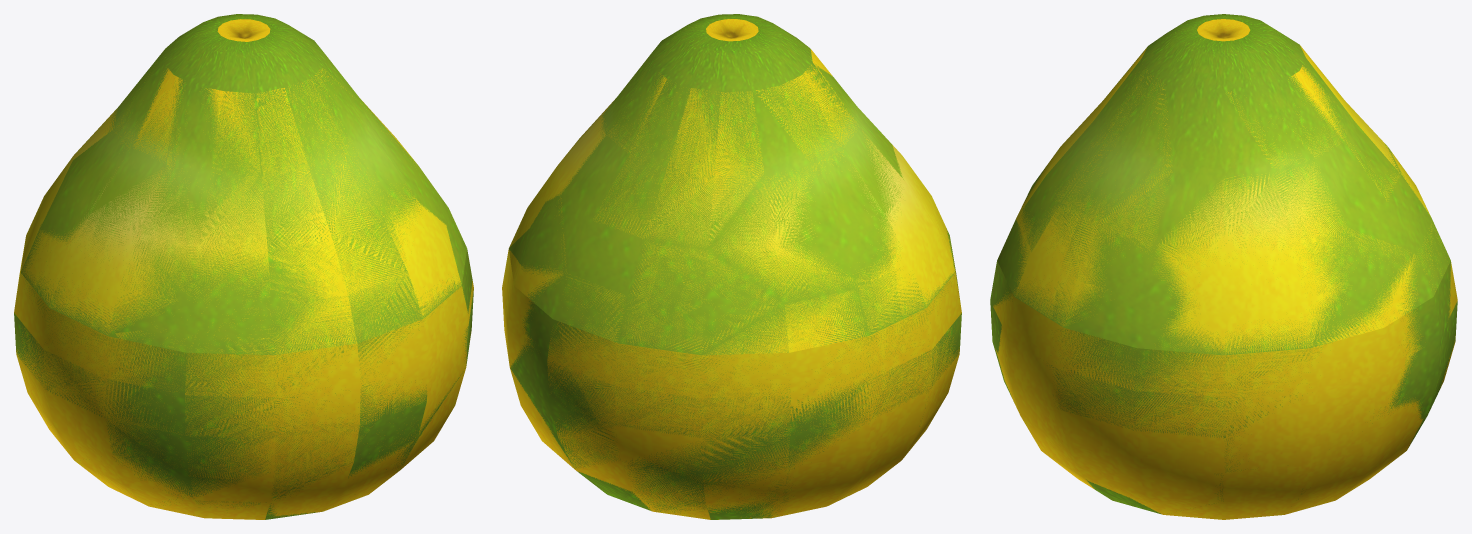
File: Pomelo_Yellow_Green_Sliced.fbx
The picture shows the model from 3 angles, left to right: view 1: azimuth 30°, elevation 25°; view 2: azimuth 150°, elevation 25°; view 3: azimuth 270°, elevation 25°; orthographic projection.
Parts seen in each view (by area): view 1: Pomelo_Green_Top, Pomelo_Yellow_Bottom, Pomelo_Yellow_Top, Pomelo_Green_Bottom; view 2: Pomelo_Green_Top, Pomelo_Yellow_Bottom, Pomelo_Yellow_Top, Pomelo_Green_Bottom; view 3: Pomelo_Green_Top, Pomelo_Yellow_Bottom, Pomelo_Yellow_Top, Pomelo_Green_Bottom.
Boxes of the visible parts, left/top/right/bottom form: Pomelo_Green_Top: left=21, top=14, right=467, bottom=355; Pomelo_Yellow_Bottom: left=14, top=239, right=473, bottom=519; Pomelo_Yellow_Top: left=21, top=19, right=461, bottom=354; Pomelo_Green_Bottom: left=14, top=249, right=473, bottom=519; Pomelo_Green_Top: left=509, top=14, right=954, bottom=355; Pomelo_Yellow_Bottom: left=502, top=244, right=961, bottom=519; Pomelo_Yellow_Top: left=509, top=19, right=954, bottom=354; Pomelo_Green_Bottom: left=510, top=245, right=961, bottom=519; Pomelo_Green_Top: left=997, top=14, right=1450, bottom=355; Pomelo_Yellow_Bottom: left=993, top=262, right=1457, bottom=519; Pomelo_Yellow_Top: left=1013, top=19, right=1447, bottom=354; Pomelo_Green_Bottom: left=990, top=261, right=1457, bottom=514.
Size of the model in its own units: 45.75 by 50.28 by 46.21.
